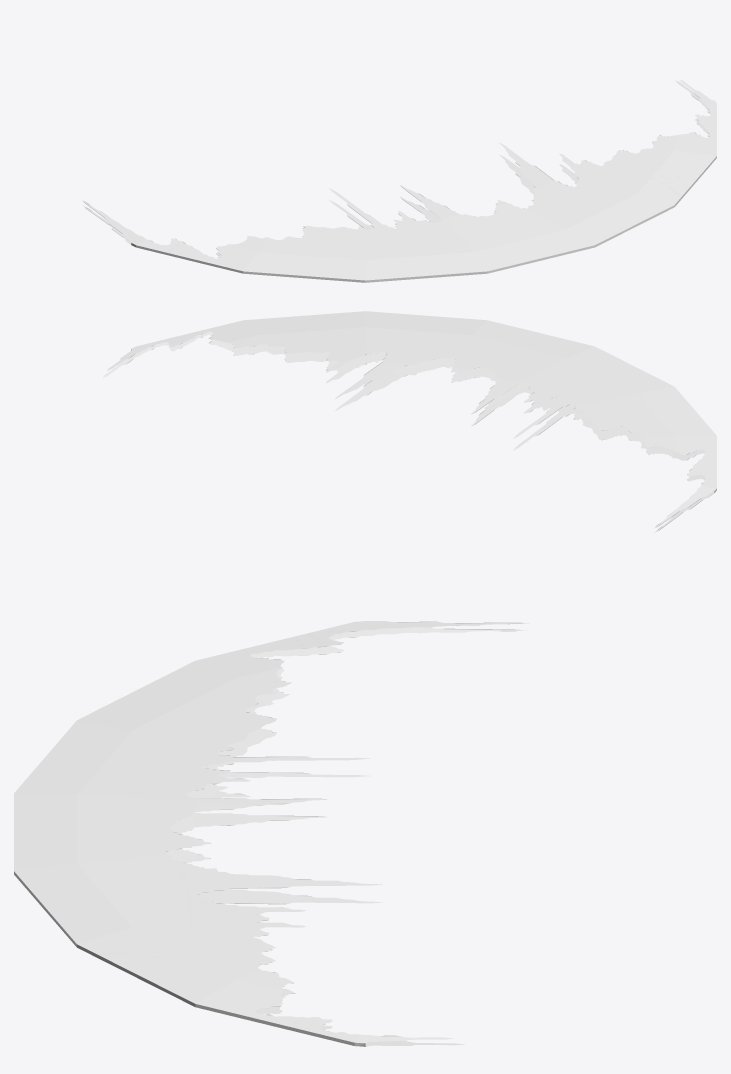
File: VFX_ShockWave.FBX
3 views of the same model, one above another, from view 1: azimuth 30°, elevation 25°; view 2: azimuth 150°, elevation 25°; view 3: azimuth 270°, elevation 25° (orthographic). The views are drawn at different scales.
Visible parts, largest first — view 1: ShockWave; view 2: ShockWave; view 3: ShockWave.
Part boxes in pixels (box(x1,y1,x2,y2)): ShockWave: box(82, 79, 716, 282); ShockWave: box(103, 311, 716, 532); ShockWave: box(14, 621, 529, 1046).
Size of the model in its own units: 275 by 5.29 by 183.
